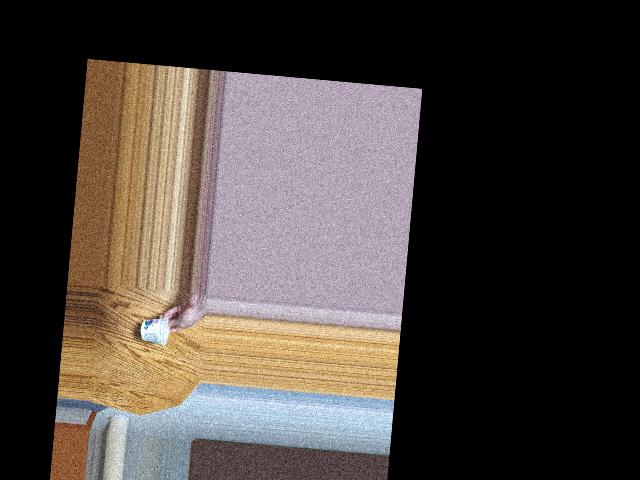cotage: (141, 313, 176, 350)
